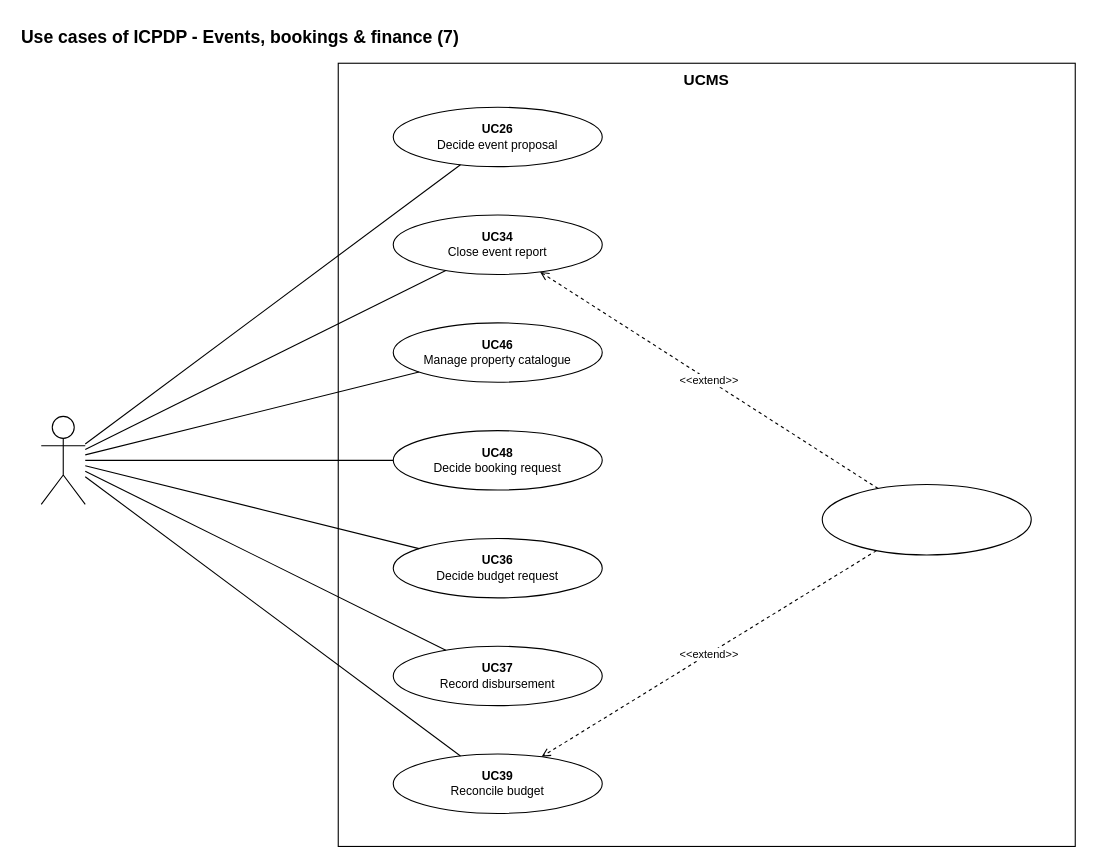
The diagram is 1095 pixels wide and 866 high, and some of its shapes have lost their labels. Each missing label, with the box of its shape:
ICPDP Officer: (40, 415, 85, 504)
UC42 Manage compliance case (see ICPDP 3): (821, 483, 1031, 555)
